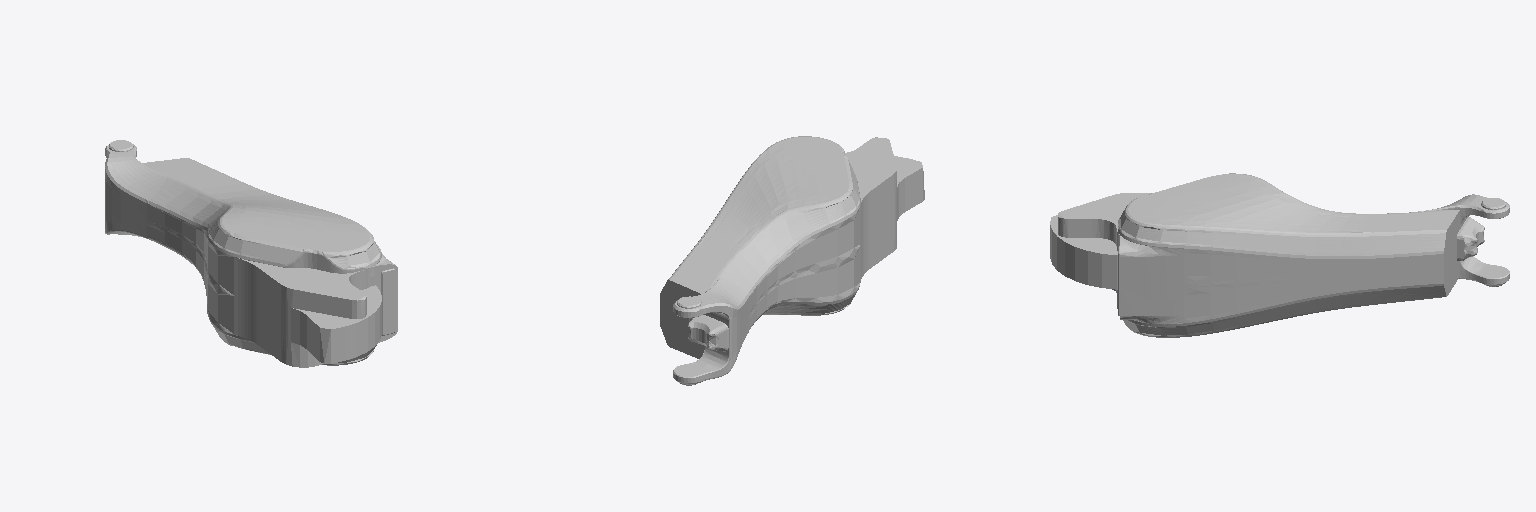
File: right_shin.obj
The picture shows the model from 3 angles: view 1: azimuth 30°, elevation 25°; view 2: azimuth 150°, elevation 25°; view 3: azimuth 270°, elevation 25°; orthographic projection.
Visible parts, largest first — view 1: RightShin; view 2: RightShin; view 3: RightShin.
Part boxes in pixels (x1,y1,x2,y2): RightShin: (105, 140, 397, 367); RightShin: (660, 136, 924, 385); RightShin: (1050, 173, 1509, 337).
Size of the model in its own units: 0.1616 by 0.1404 by 0.5163.